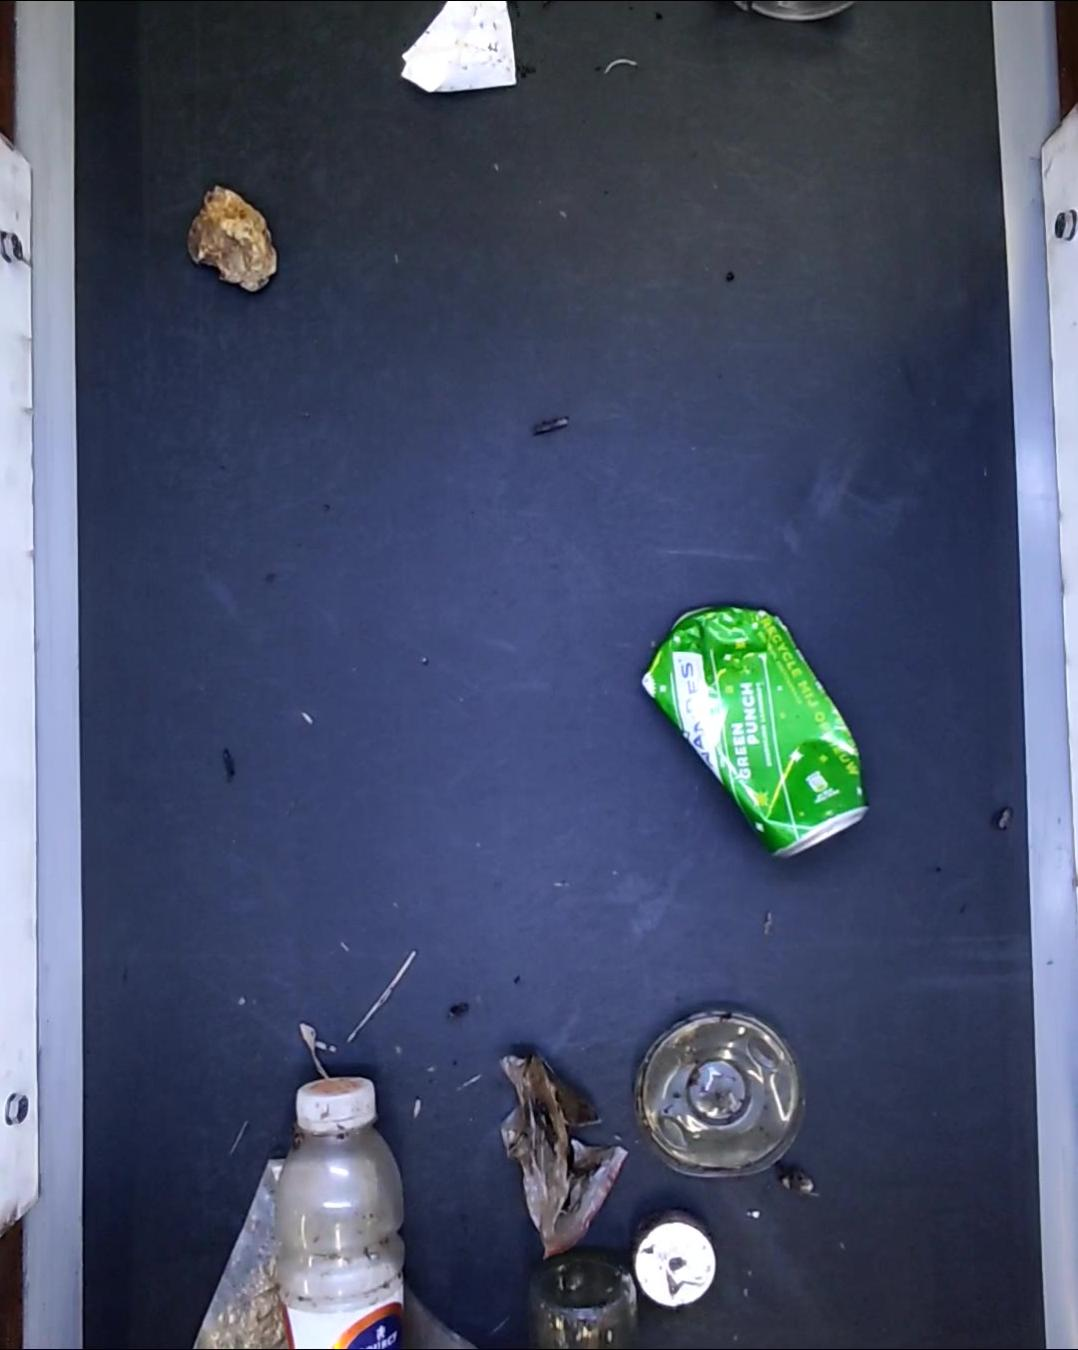Drankblikjes: (640, 599, 864, 858)
Drankflessen - 1-2 liter: (267, 1076, 409, 1350)
Plastic folies of stukken daarvan 2.5- 50 cm: (189, 1141, 480, 1350), (491, 1043, 624, 1259)
